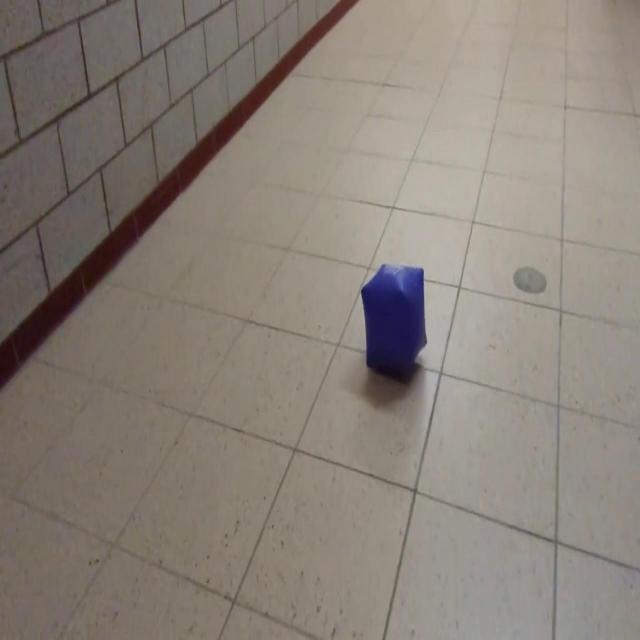frc_cube: (360, 257, 428, 384)
